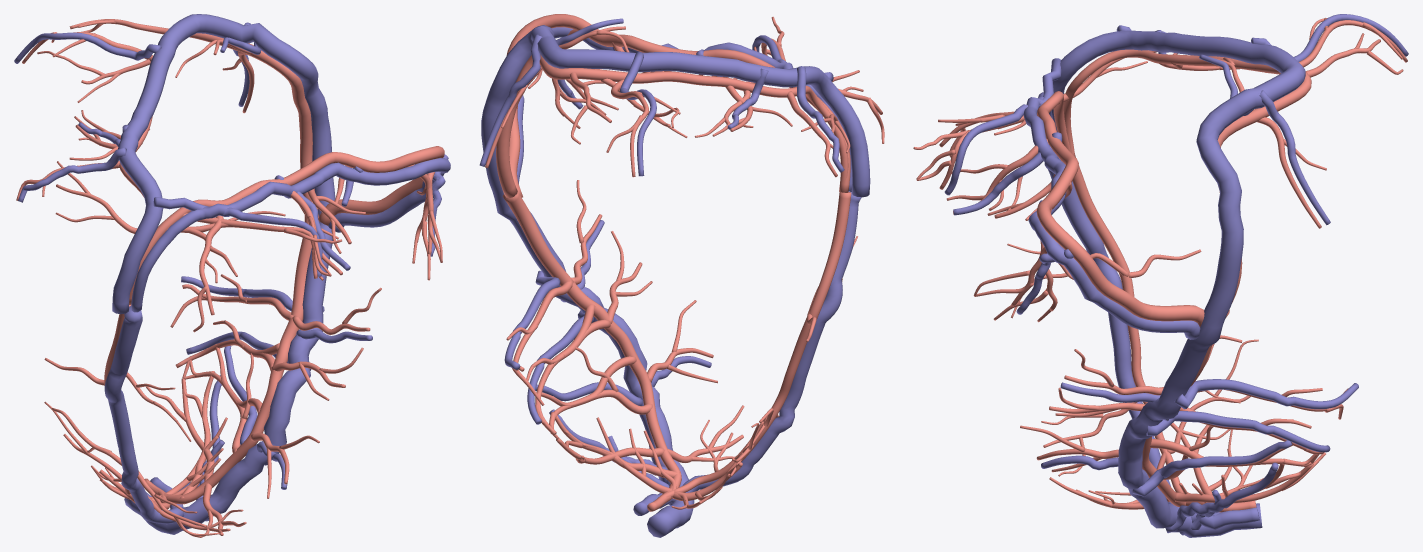
The model's file is vessels_4.glb.
3 renders of one model, left to right at view 1: azimuth 30°, elevation 25°; view 2: azimuth 150°, elevation 25°; view 3: azimuth 270°, elevation 25°, orthographic. The views are drawn at different scales.
Parts seen in each view (by area): view 1: Renderer Node; view 2: Renderer Node; view 3: Renderer Node.
Part boxes in pixels (x1,y1,x2,y2): Renderer Node: (14,14,450,537); Renderer Node: (479,14,884,537); Renderer Node: (913,14,1408,537).
Bounding box in the file's own units: 99.16 × 119 × 105.
